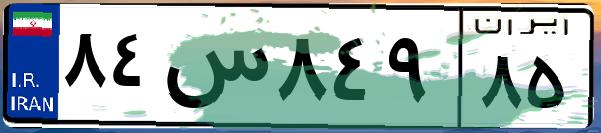4: (330, 28, 385, 110), (110, 28, 158, 98)
5: (525, 38, 570, 115)
8: (270, 28, 330, 110), (57, 26, 110, 100), (475, 38, 525, 113)
9: (385, 28, 445, 110)
س: (158, 20, 270, 120)
